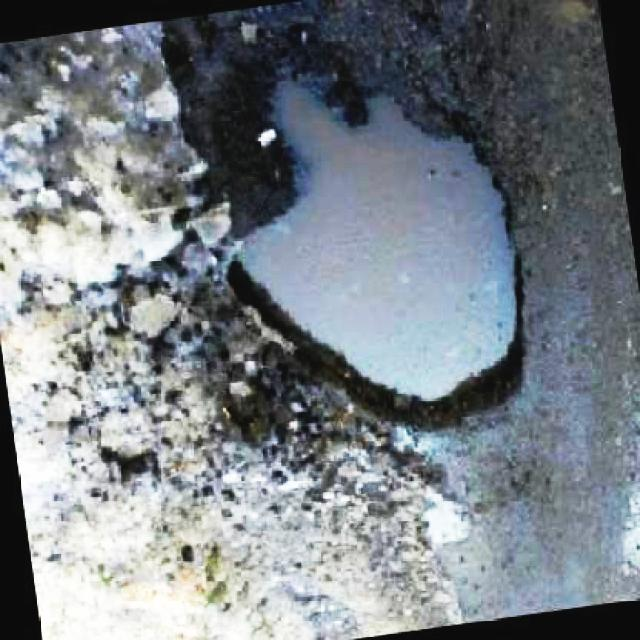pothole: (156, 4, 564, 450)
